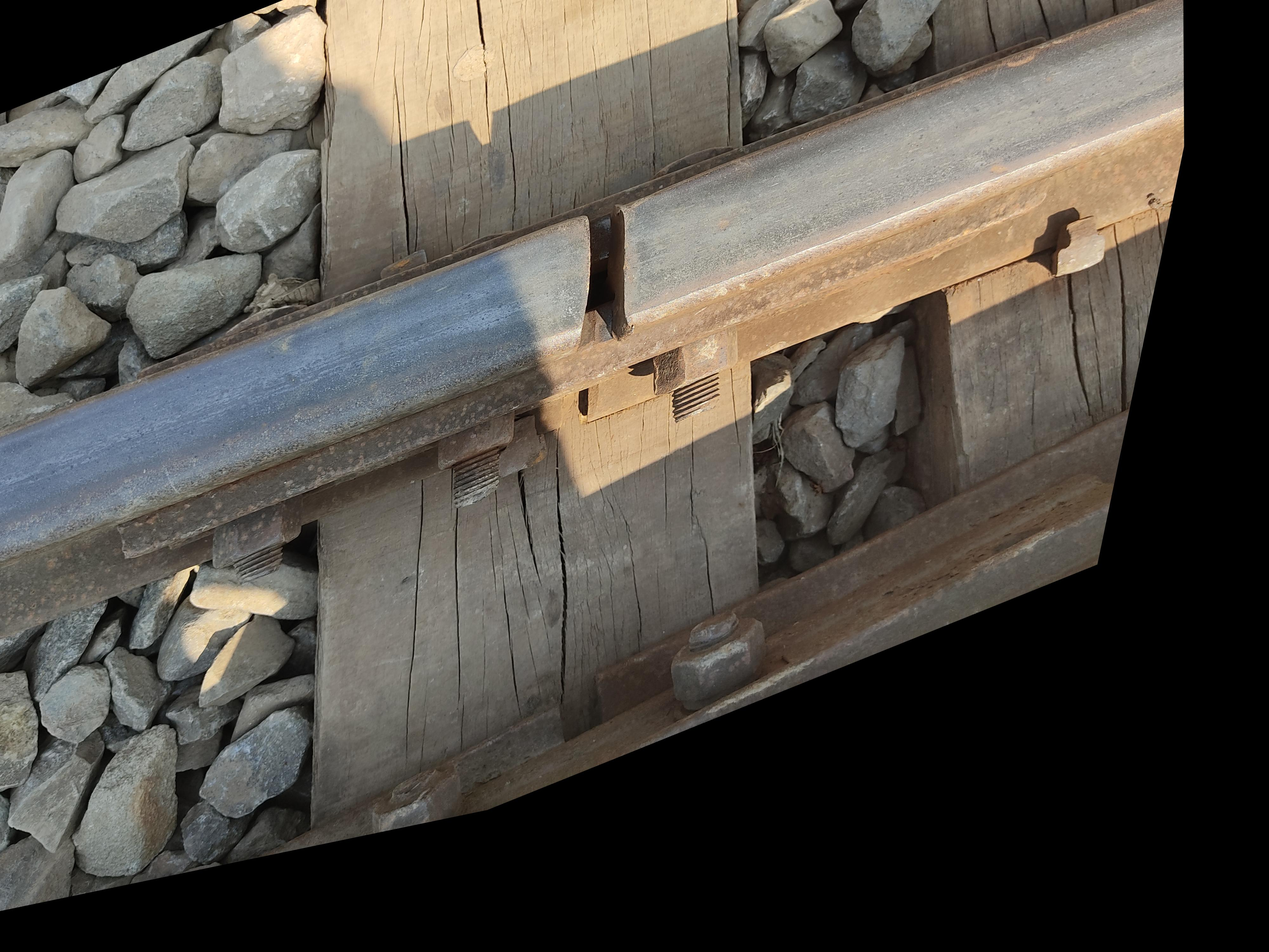person: (397, 328, 638, 574)
